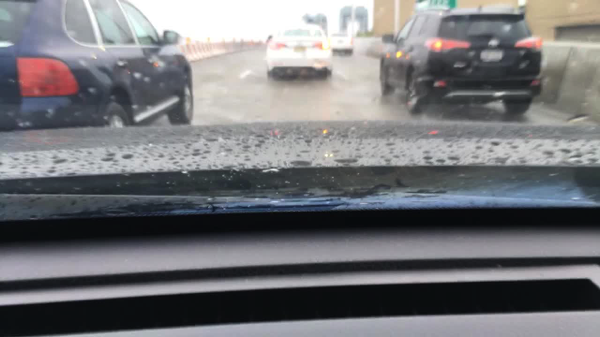car: (0, 0, 193, 129), (378, 6, 542, 116), (265, 23, 332, 80), (328, 29, 356, 55)
